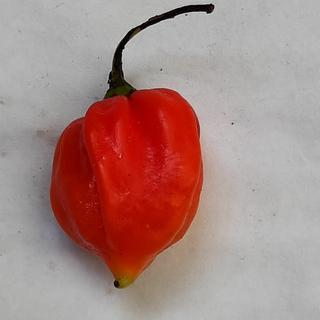Grade-A: (42, 82, 212, 295)
